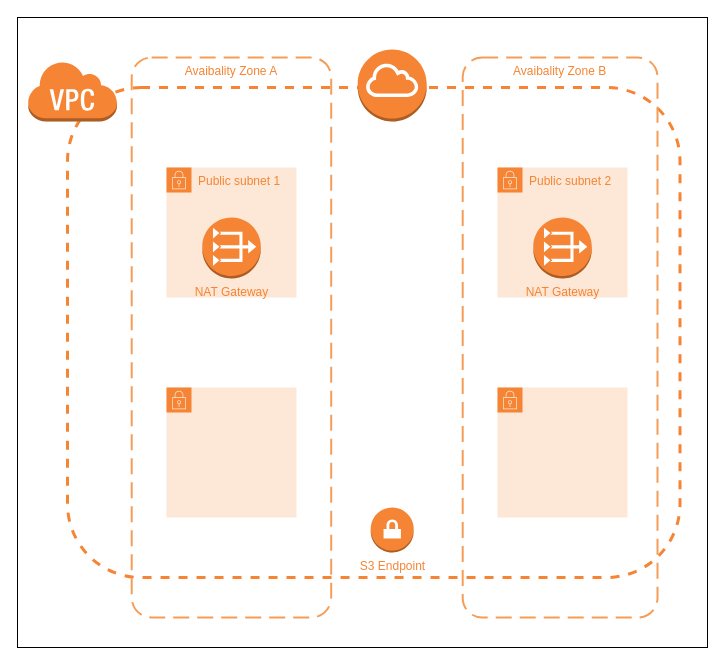
The diagram is 725 pixels wide and 665 high, and some of its shapes have lost their labels. Here are the shapes that lost their labels. From the top down, the centre of each, then its label:
At (392,85): "Internet Gateway".
At (231,452): "Private subnet 1".
At (562,452): "Private subnet 2".
